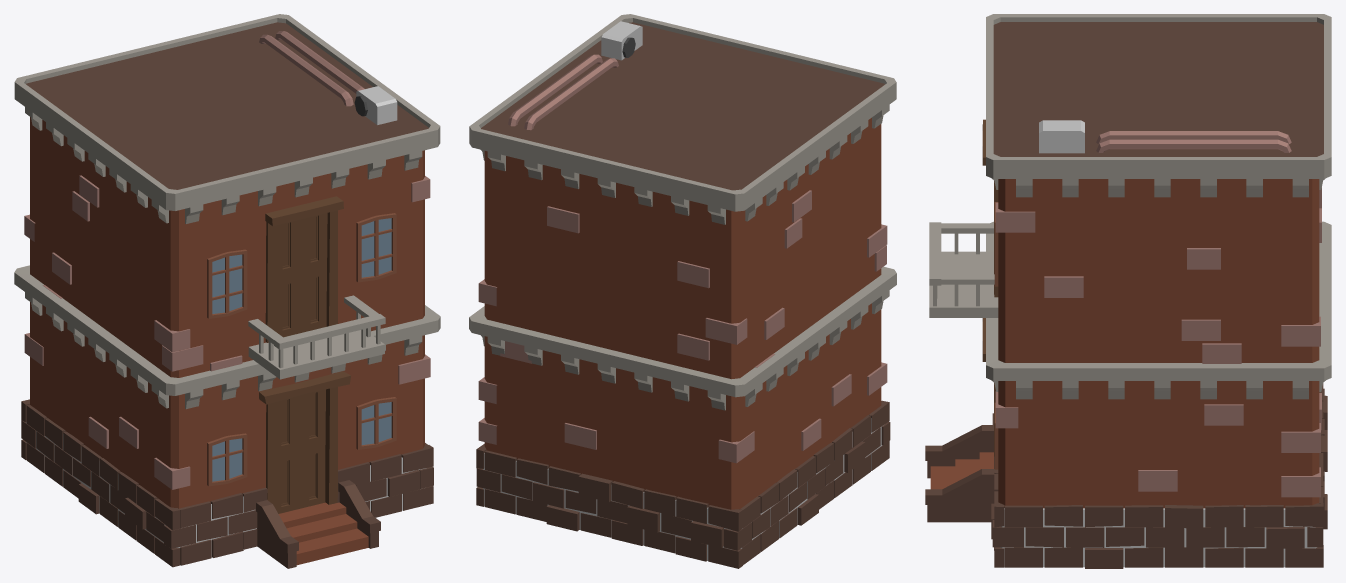
The model's file is 2Story_Balcony.glb.
3 renders of one model, left to right at view 1: azimuth 30°, elevation 25°; view 2: azimuth 150°, elevation 25°; view 3: azimuth 270°, elevation 25°, orthographic. The views are drawn at different scales.
Visible parts, largest first — view 1: 2Story_Balcony_Cube.003; view 2: 2Story_Balcony_Cube.003; view 3: 2Story_Balcony_Cube.003.
Part boxes in pixels (bbox=[...]): 2Story_Balcony_Cube.003: bbox=[14, 14, 440, 568]; 2Story_Balcony_Cube.003: bbox=[469, 14, 896, 568]; 2Story_Balcony_Cube.003: bbox=[925, 14, 1331, 568].
Size of the model in its own units: 2.16 by 2.94 by 2.53.
Materials: 1 (1 with a texture image).
